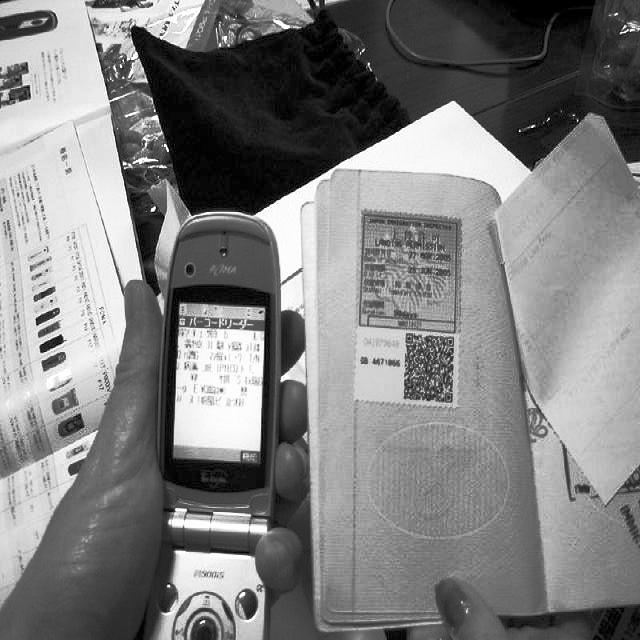qr_code: (403, 334, 453, 402)
